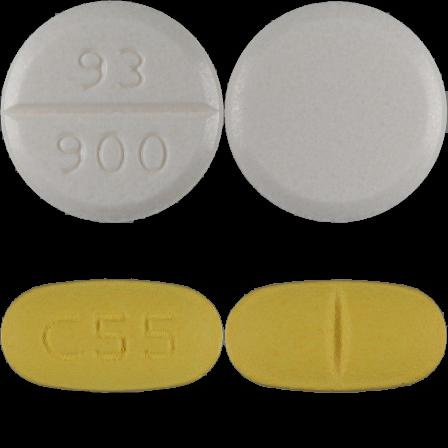68788-9117: (0, 0, 224, 224)
